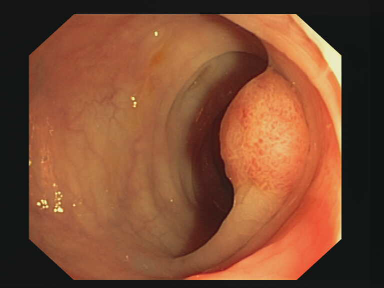polyp: (199, 56, 326, 223)
